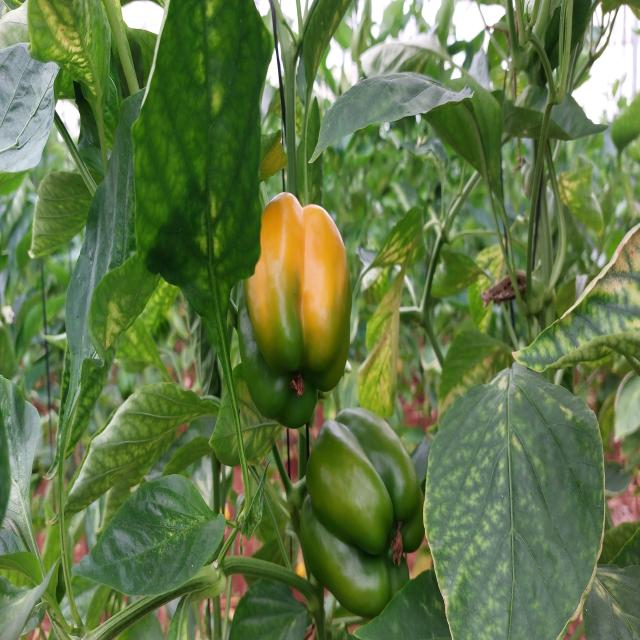Green--Not-ready-to-harvest: (298, 403, 433, 612)
GreenishYellow--Can-be-Harvested: (216, 180, 371, 416)
